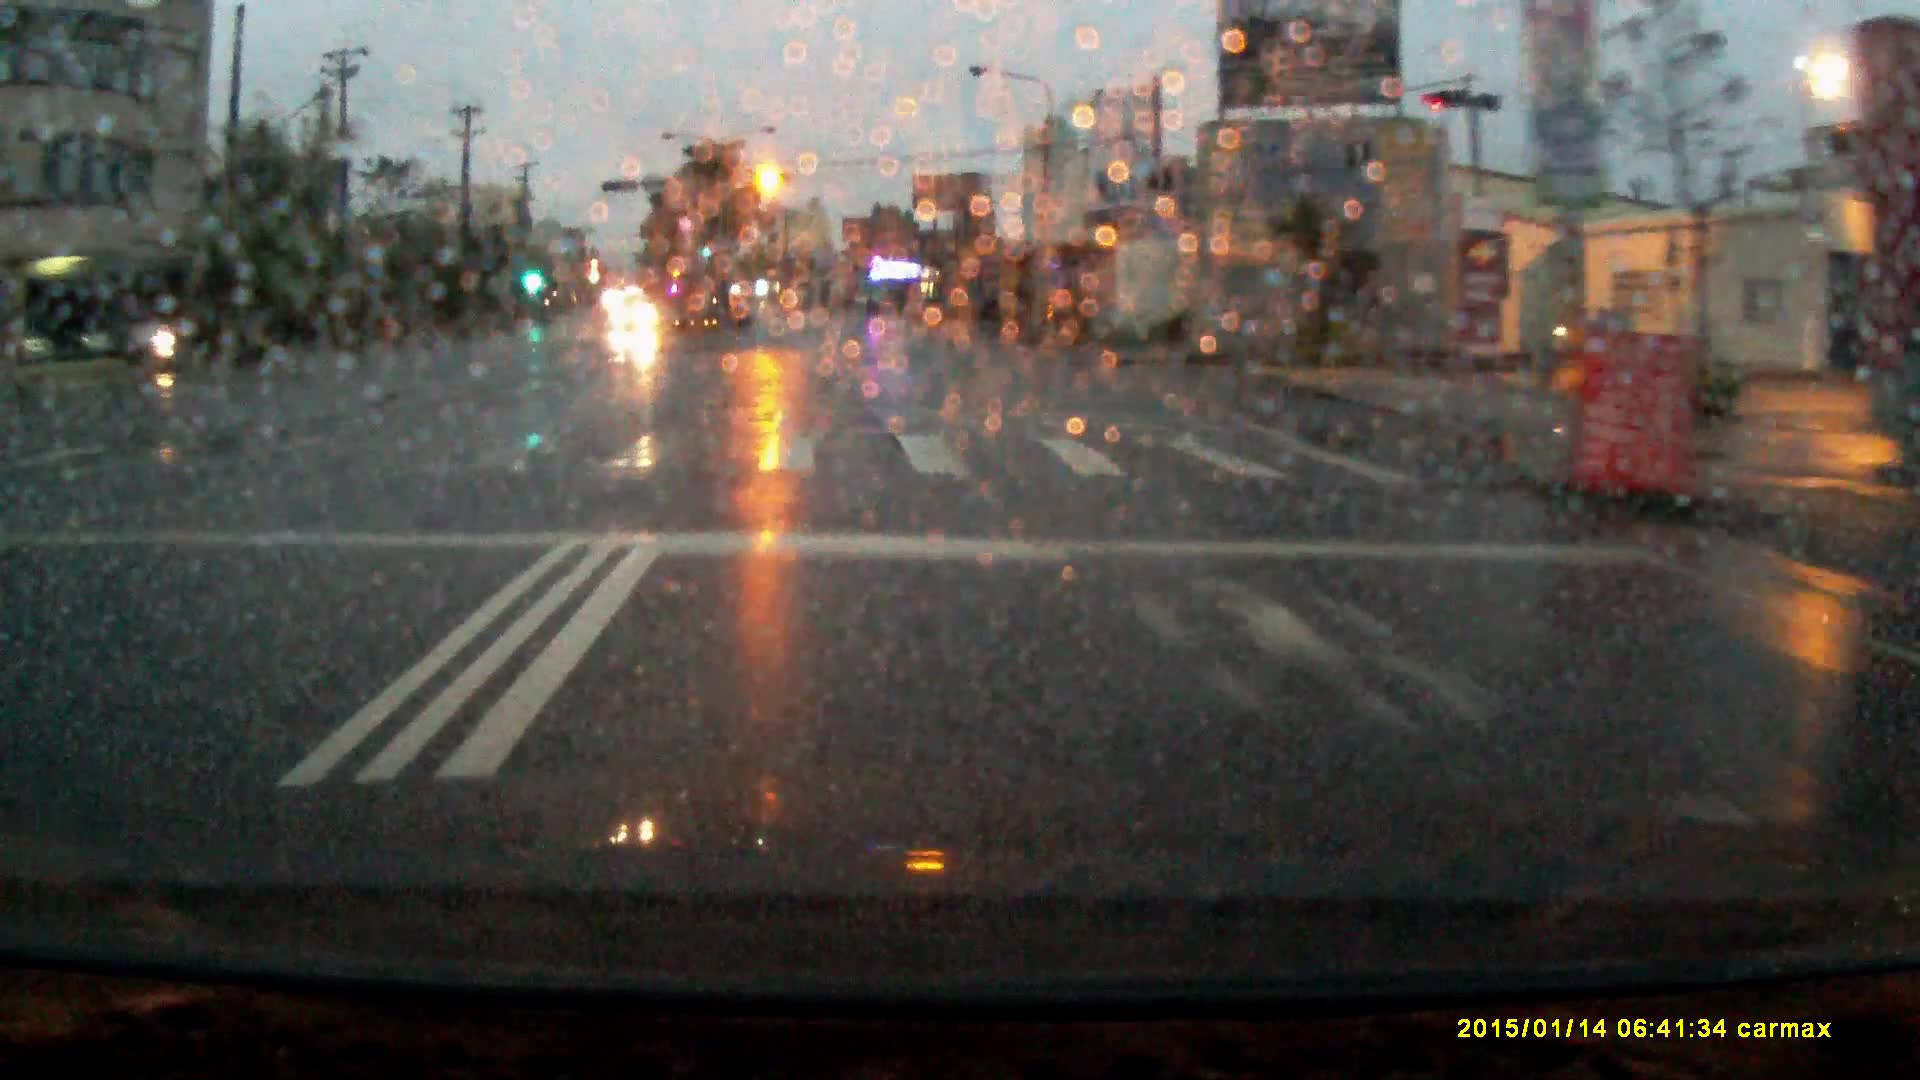rider: (1547, 290, 1620, 377), (145, 297, 190, 377)
vehicle: (612, 297, 662, 337)
